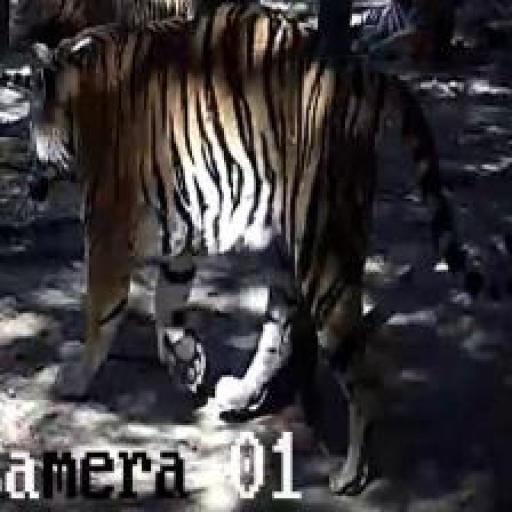Tiger: (16, 25, 438, 437)
